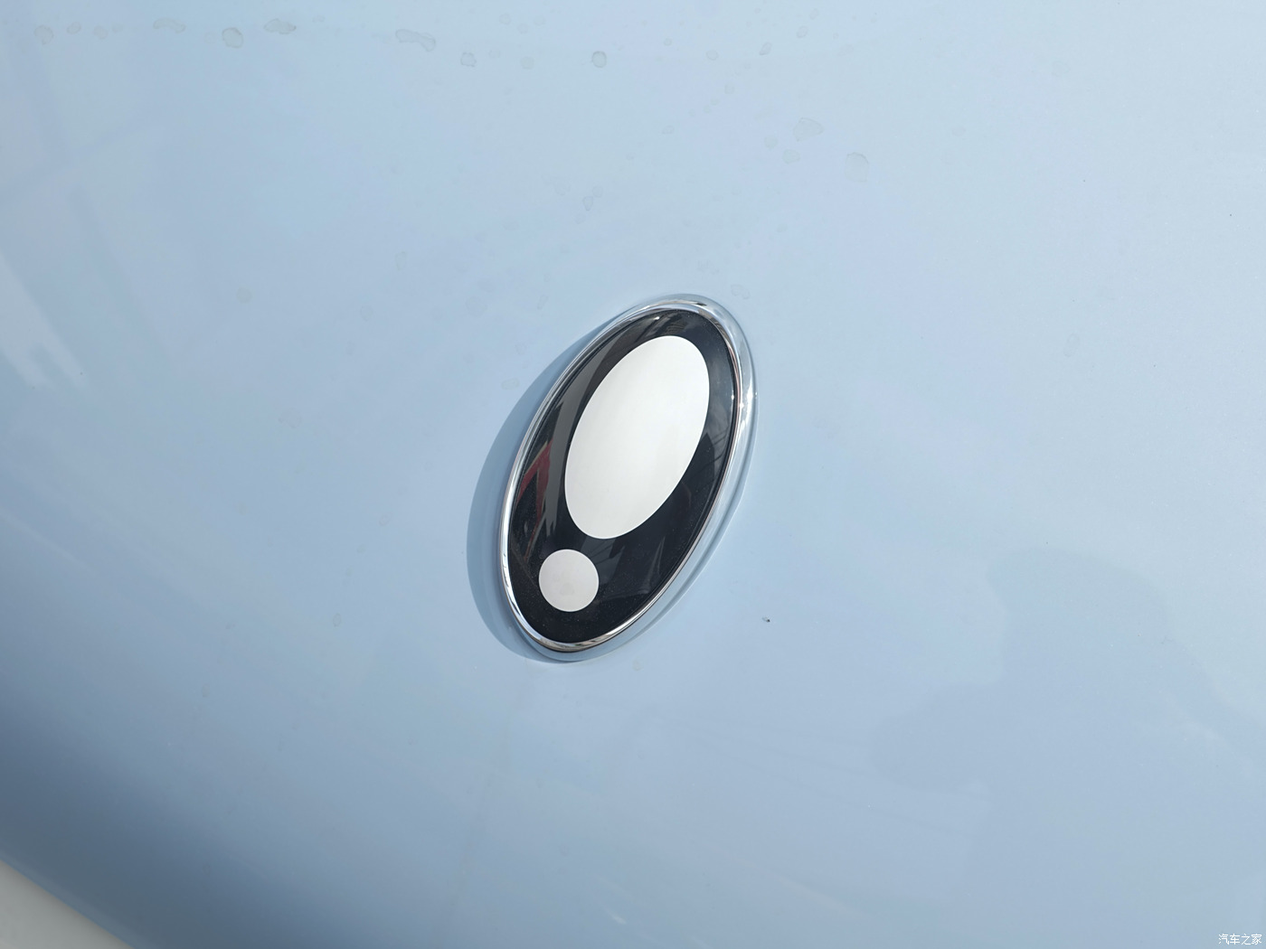ORA: (502, 295, 753, 649)
